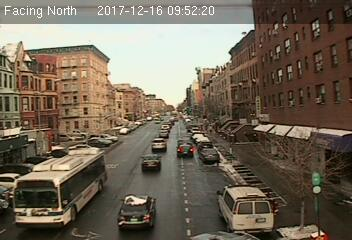bus: (12, 146, 108, 228)
car: (115, 194, 158, 231), (198, 147, 220, 164), (140, 153, 161, 170), (177, 143, 194, 159), (150, 138, 169, 152), (157, 129, 169, 138)
police: (216, 182, 274, 233)
